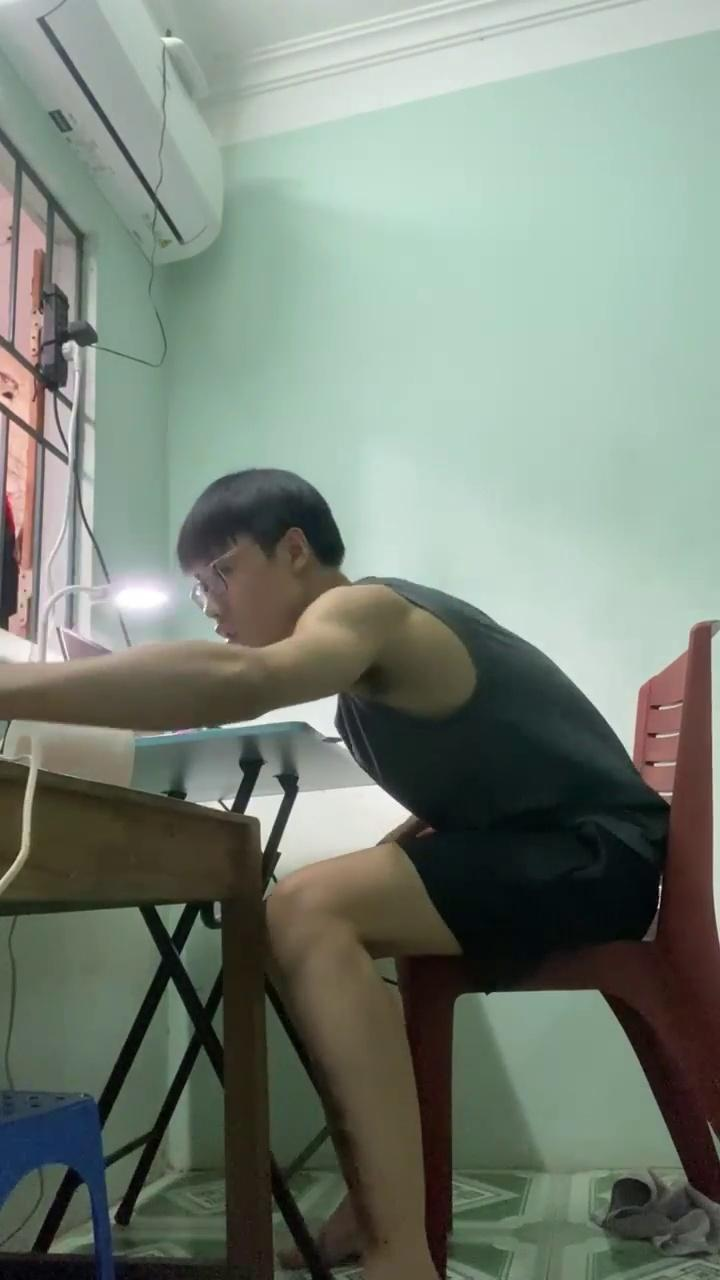BadPosture: (0, 468, 669, 1279)
